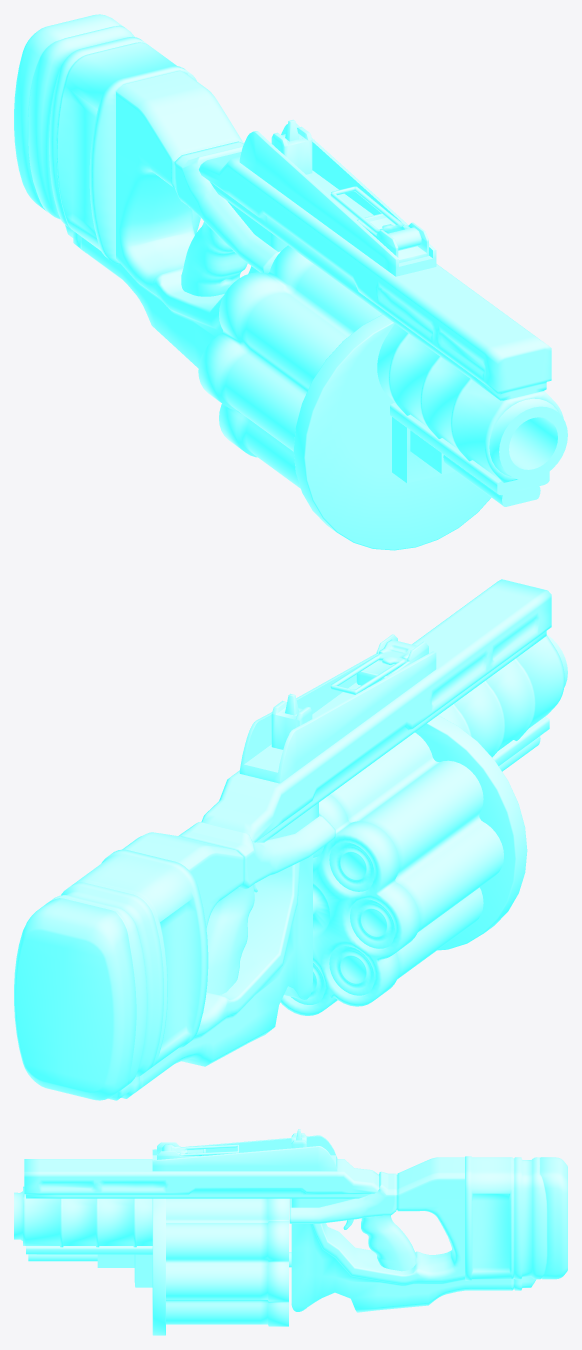
Rendered from scifigrenadelauncher01-1.glb.
3 renders of one model, top to bottom at view 1: azimuth 30°, elevation 25°; view 2: azimuth 150°, elevation 25°; view 3: azimuth 270°, elevation 25°, orthographic. The views are drawn at different scales.
Visible parts, largest first — view 1: SciFiGrenadeLauncher01_1; view 2: SciFiGrenadeLauncher01_1; view 3: SciFiGrenadeLauncher01_1.
Part boxes in pixels (x1=…): SciFiGrenadeLauncher01_1: x1=14, y1=14, x2=567, y2=550; SciFiGrenadeLauncher01_1: x1=14, y1=579, x2=567, y2=1100; SciFiGrenadeLauncher01_1: x1=14, y1=1129, x2=567, y2=1335.
Size of the model in its own units: 0.2416 by 0.3477 by 0.8794.
